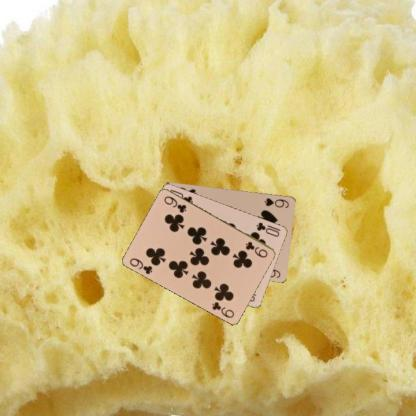10c: (254, 220, 281, 238)
6s: (262, 195, 290, 209)
9c: (127, 256, 154, 276), (243, 238, 269, 258)
